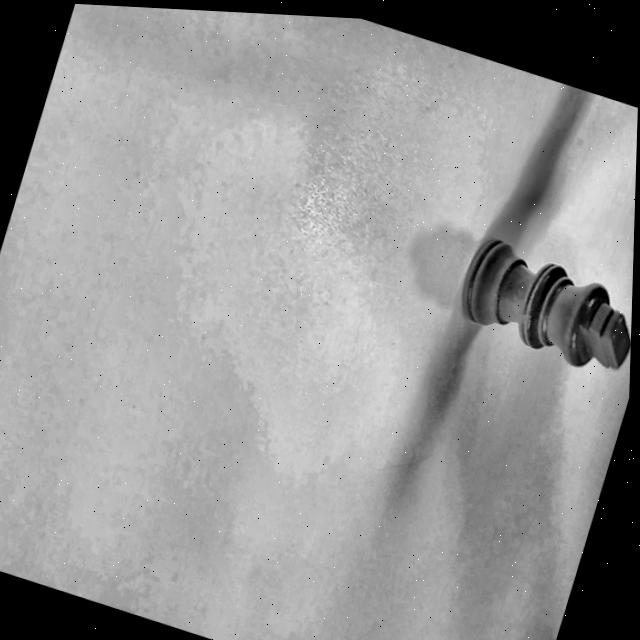black-king: (420, 211, 634, 399)
